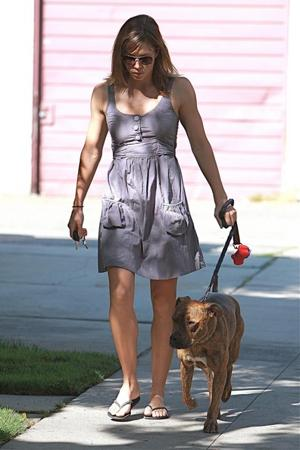person: (69, 15, 237, 420)
